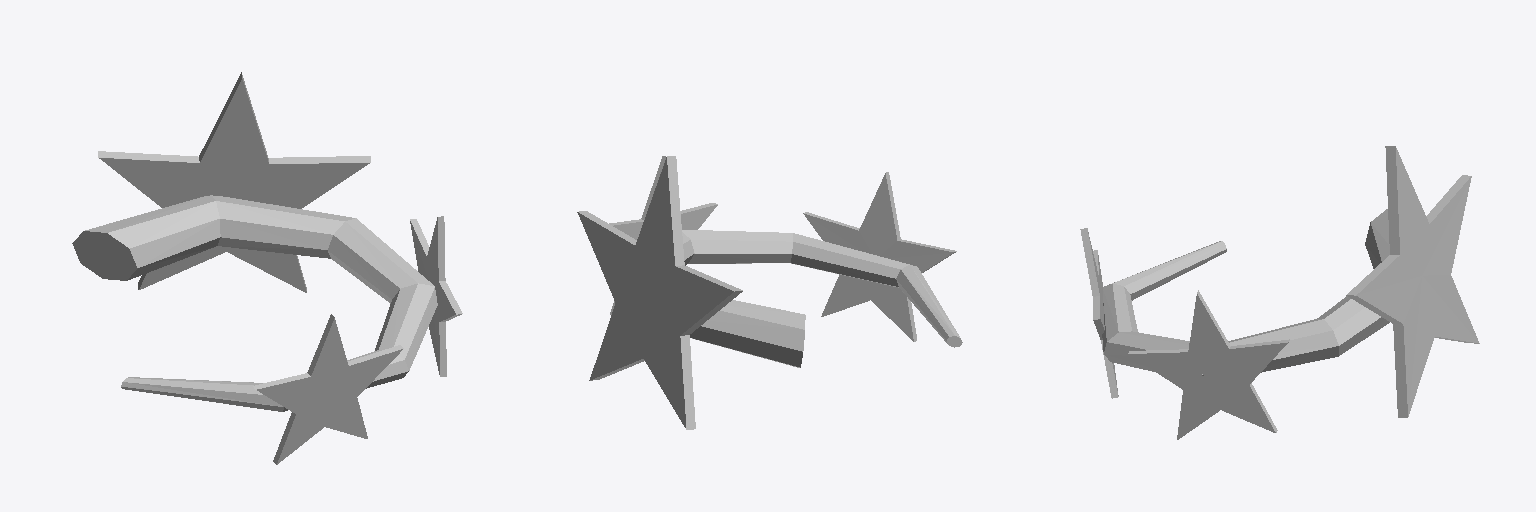
The model's file is dizzystars.obj.
3 renders of one model, left to right at view 1: azimuth 30°, elevation 25°; view 2: azimuth 150°, elevation 25°; view 3: azimuth 270°, elevation 25°, orthographic.
Visible parts, largest first — view 1: pCylinder9; view 2: pCylinder9; view 3: pCylinder9.
Boxes of the visible parts, box(x1,y1,x2,y2) form: pCylinder9: box(72, 72, 462, 464); pCylinder9: box(577, 156, 962, 429); pCylinder9: box(1080, 146, 1479, 439).
Bounding box in the file's own units: 0.486 × 0.3697 × 0.5098.